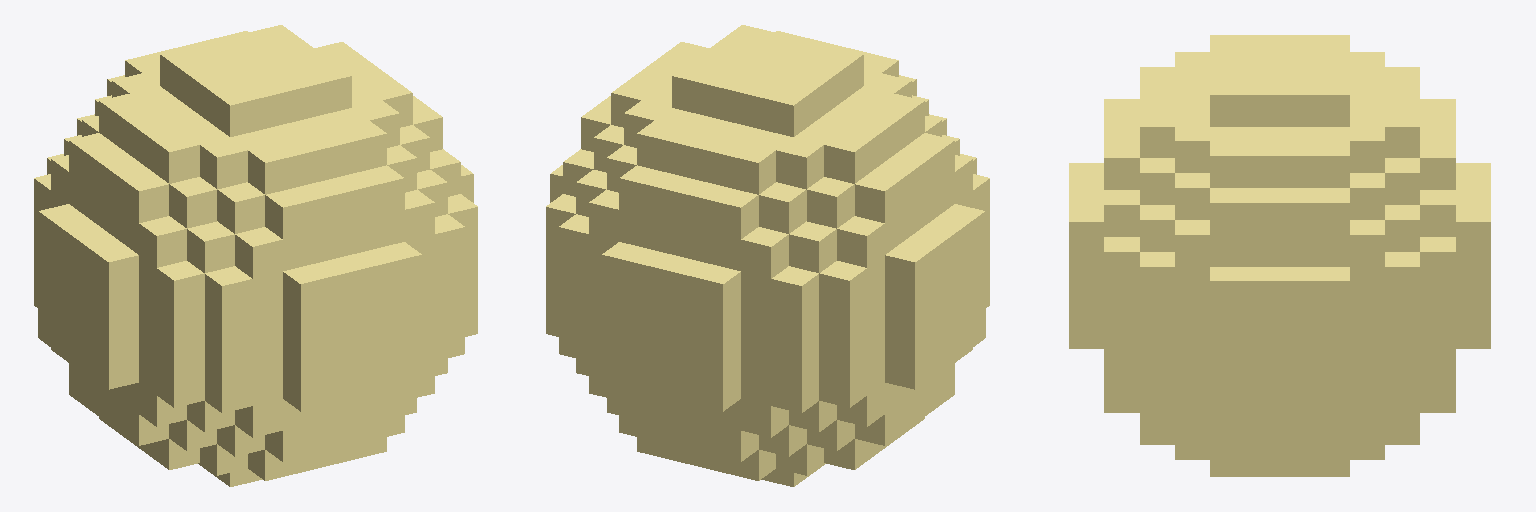
3 renders of one model, left to right at view 1: azimuth 30°, elevation 25°; view 2: azimuth 150°, elevation 25°; view 3: azimuth 270°, elevation 25°, orthographic.
Visible parts, largest first — view 1: object 1; view 2: object 1; view 3: object 1.
Boxes of the visible parts, <box> form: object 1: <box>34,25,477,486</box>; object 1: <box>546,25,989,486</box>; object 1: <box>1069,35,1490,476</box>.
Bounding box in the file's own units: 1.2 × 1.2 × 1.2.
1 materials, 1 textured.